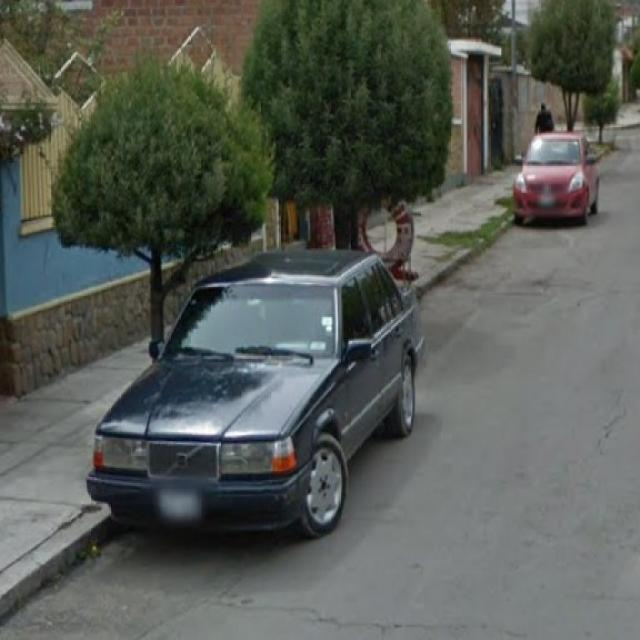Car: (96, 256, 421, 523), (519, 131, 598, 213)
